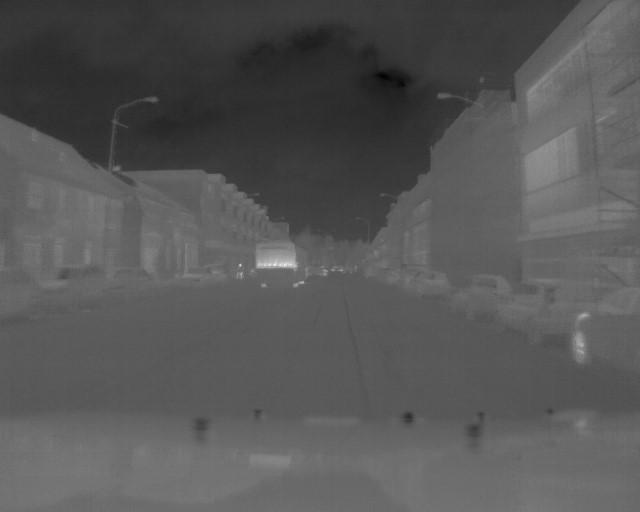car: (570, 287, 640, 374), (497, 280, 566, 341), (45, 262, 112, 316), (249, 235, 309, 294), (448, 269, 499, 327), (1, 269, 44, 332), (406, 269, 449, 304)
person: (232, 259, 245, 289)
